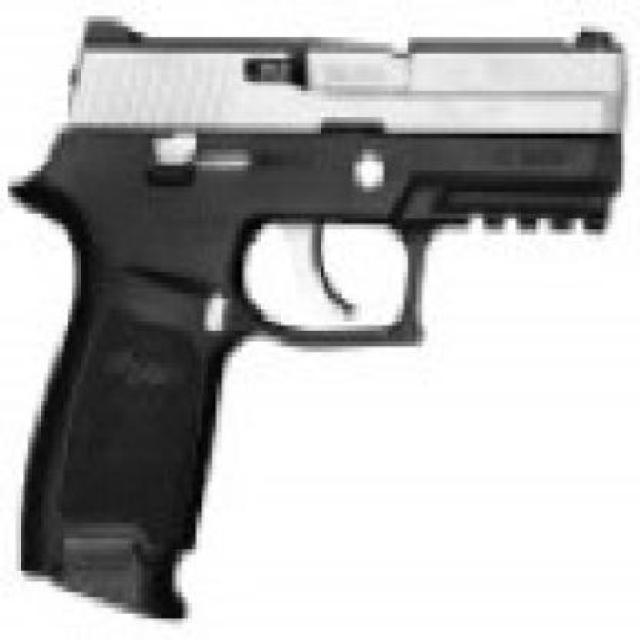gun: (8, 16, 620, 598)
